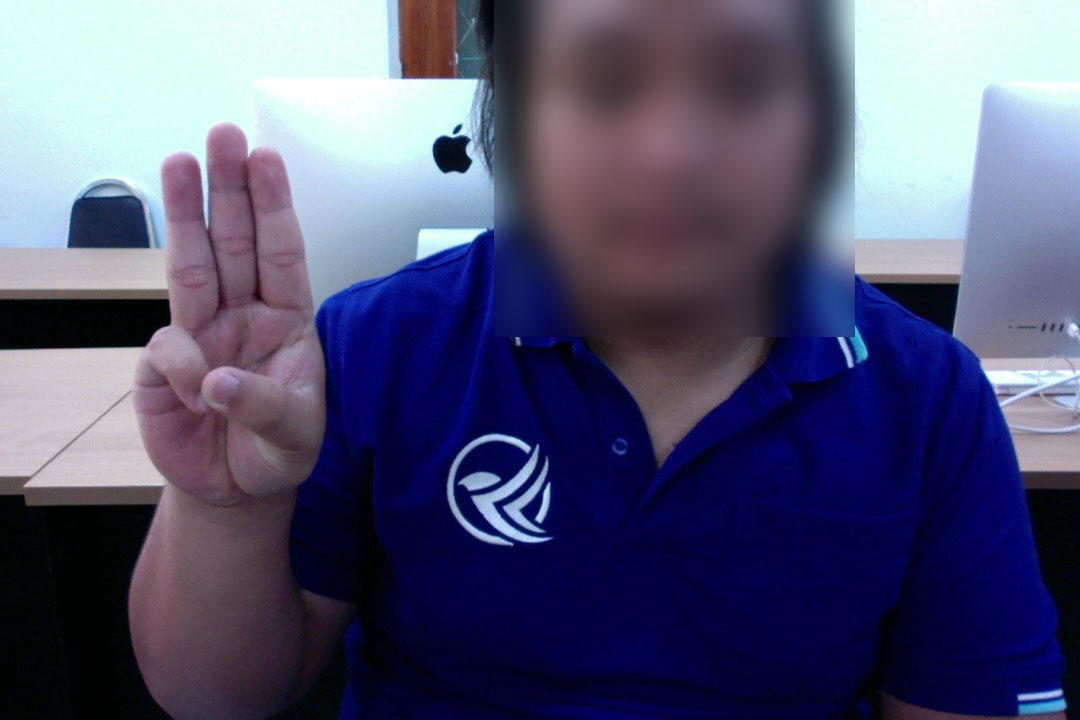wor: (122, 107, 380, 545)
